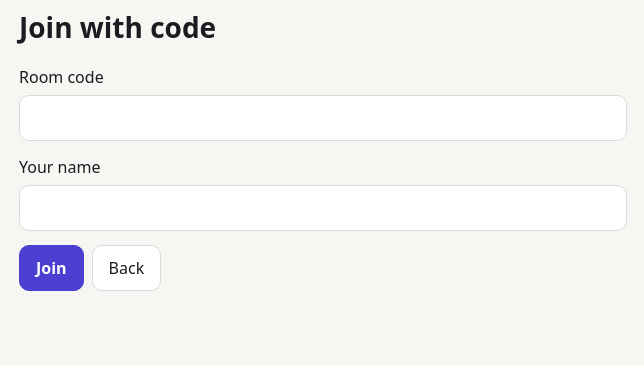
Test case: an unknown code says the room was not found
Type "zzzz" into the field labelled "Room code" at (323, 118), box x1=19 y1=95 x2=627 y2=141
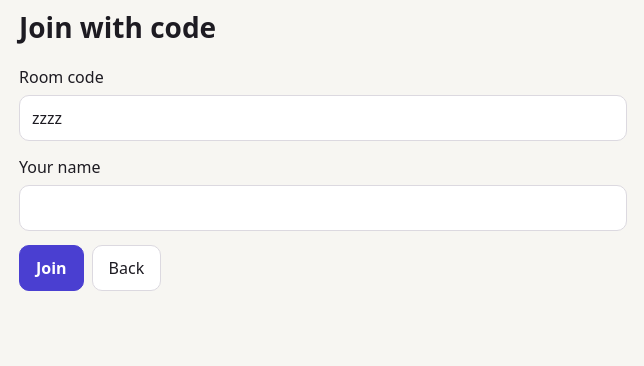
Type "ann" into the field labelled "Your name" at (323, 208), box x1=19 y1=185 x2=627 y2=231
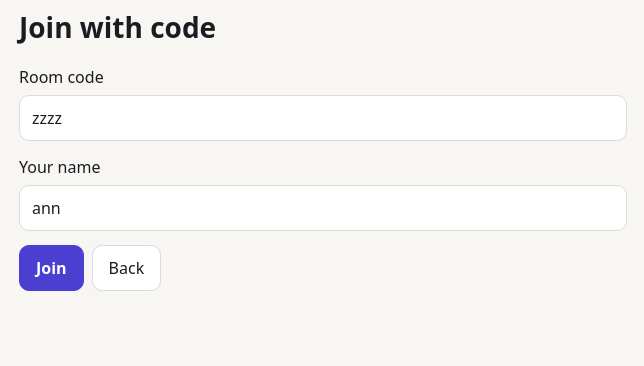
Click the button "Join" at (51, 268), box x1=19 y1=245 x2=84 y2=291
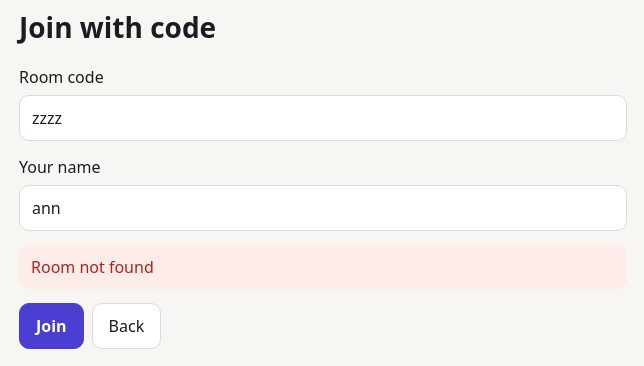
Now the message reads "Room not found", box x1=31 y1=256 x2=154 y2=278
